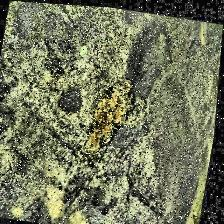pothole: (74, 71, 142, 164)
